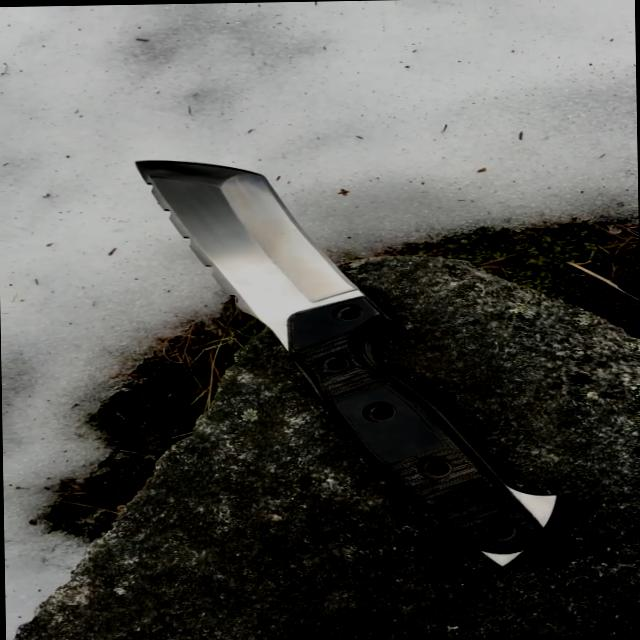knife: (116, 145, 407, 379)
